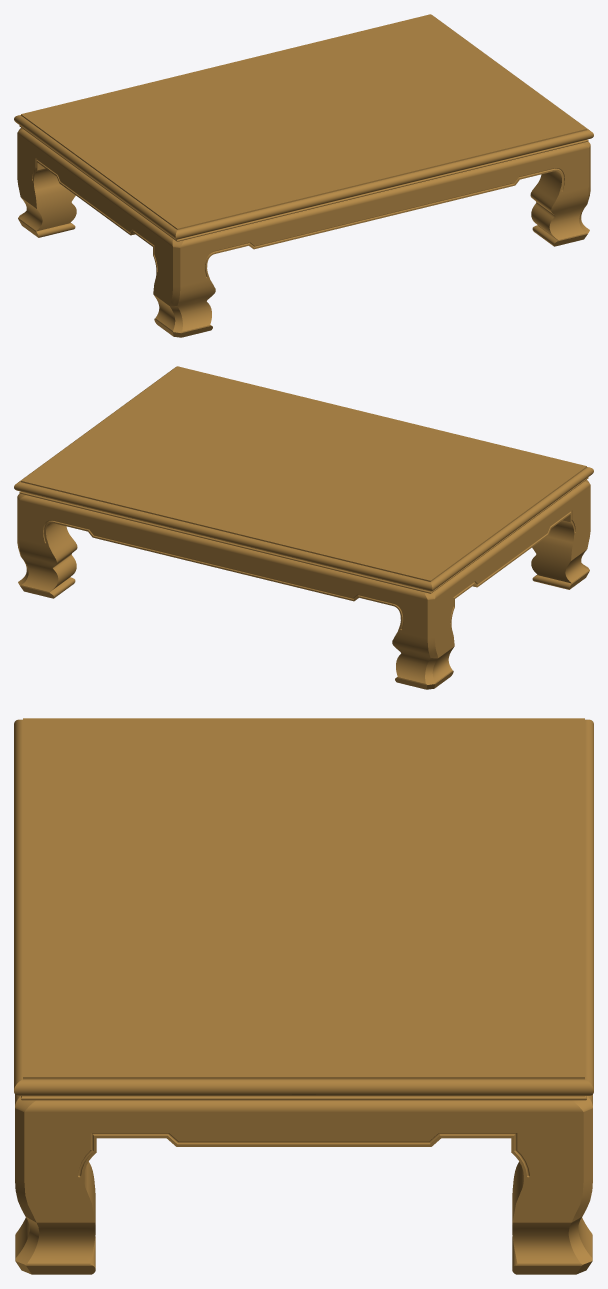
3 views of the same model, one above another, from view 1: azimuth 30°, elevation 25°; view 2: azimuth 150°, elevation 25°; view 3: azimuth 270°, elevation 25° (orthographic). The views are drawn at different scales.
Visible parts, largest first — view 1: 419_座卓; view 2: 419_座卓; view 3: 419_座卓.
Boxes of the visible parts, left/top/right/bottom form: 419_座卓: left=14, top=14, right=593, bottom=337; 419_座卓: left=14, top=366, right=593, bottom=689; 419_座卓: left=14, top=718, right=593, bottom=1274.
Size of the model in its own units: 1.36 by 0.34 by 0.9095.
